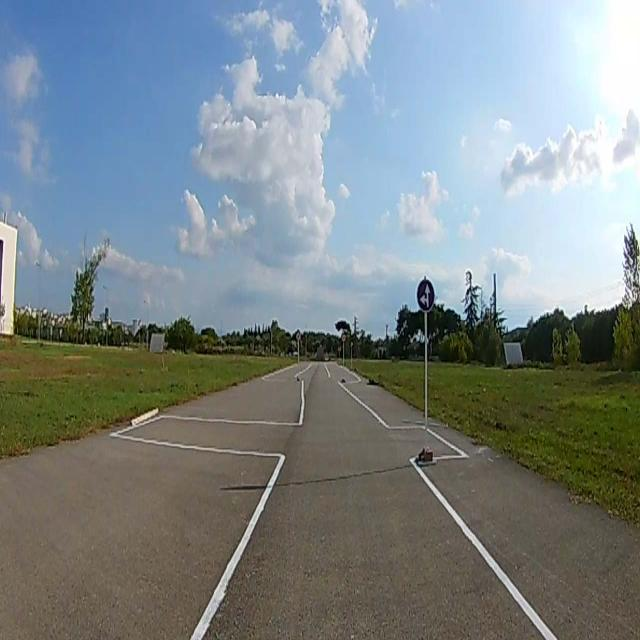ilerisol: (417, 277, 434, 311)
